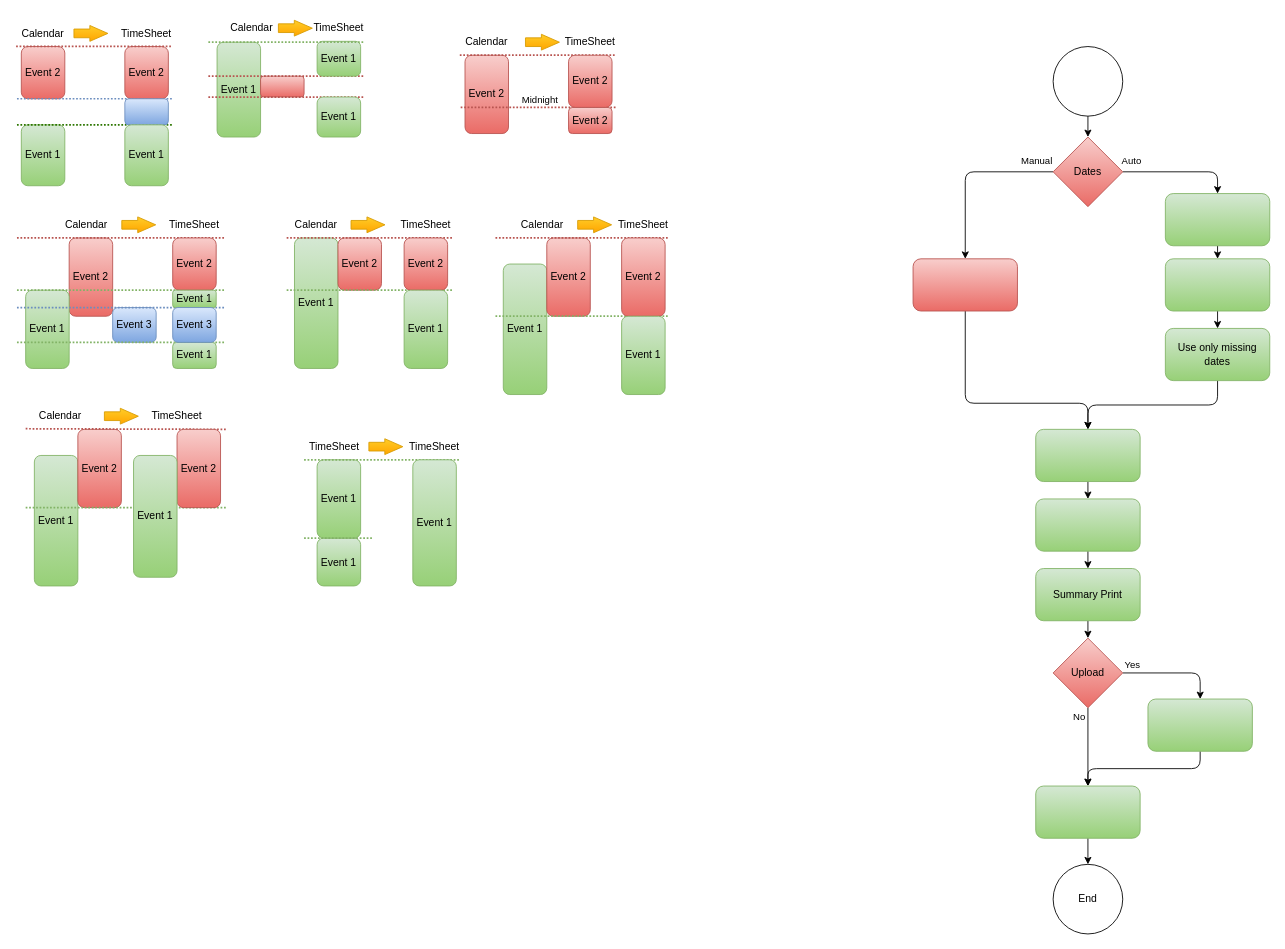
Image size: 1285x949. Some labels were removed from this diagram. The centre of each missing label's shape, as x and y in pixels:
"Analyze it" belongs at point (1217, 284).
"Define Start and End Date for downlaod" belongs at point (964, 284).
"Downlaod Timeshets from Sharepoint" belongs at point (1217, 219).
"Download" belongs at point (1087, 455).
"Event Handler" belongs at point (1087, 524).
"Filled" belongs at point (146, 111).
"Launch" belongs at point (282, 86).
"Open .csv" belongs at point (1087, 811).
"Start" belongs at point (1087, 81).
"Upload data to Sharpoint" belongs at point (1199, 724).
